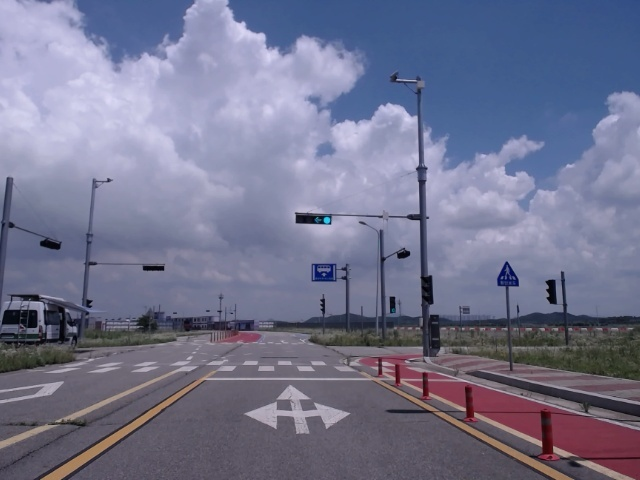all_green_4: (296, 211, 334, 225)
